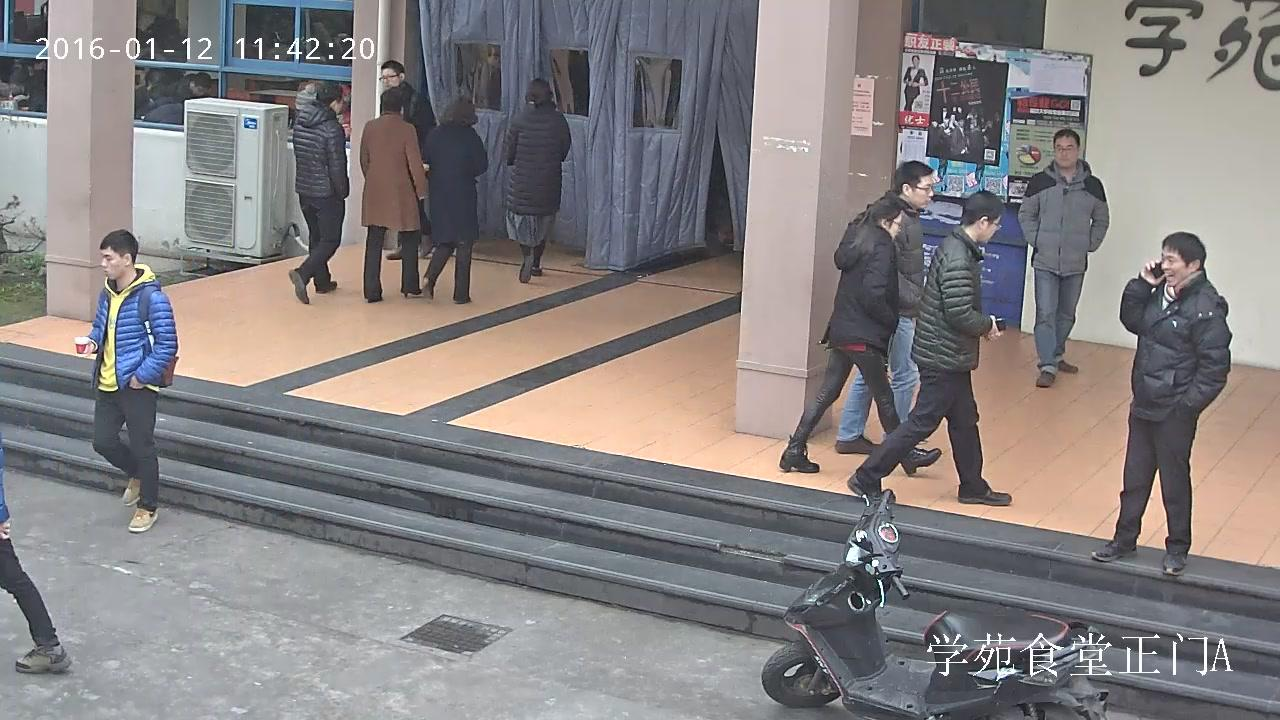person: (848, 190, 1012, 507), (1092, 231, 1231, 579), (780, 193, 941, 473), (73, 229, 178, 532), (835, 161, 934, 453), (1018, 129, 1109, 386), (0, 444, 70, 674), (359, 87, 426, 302), (421, 99, 488, 304), (289, 81, 349, 303), (507, 79, 571, 281), (377, 60, 422, 259), (144, 80, 183, 124), (903, 53, 928, 112)
